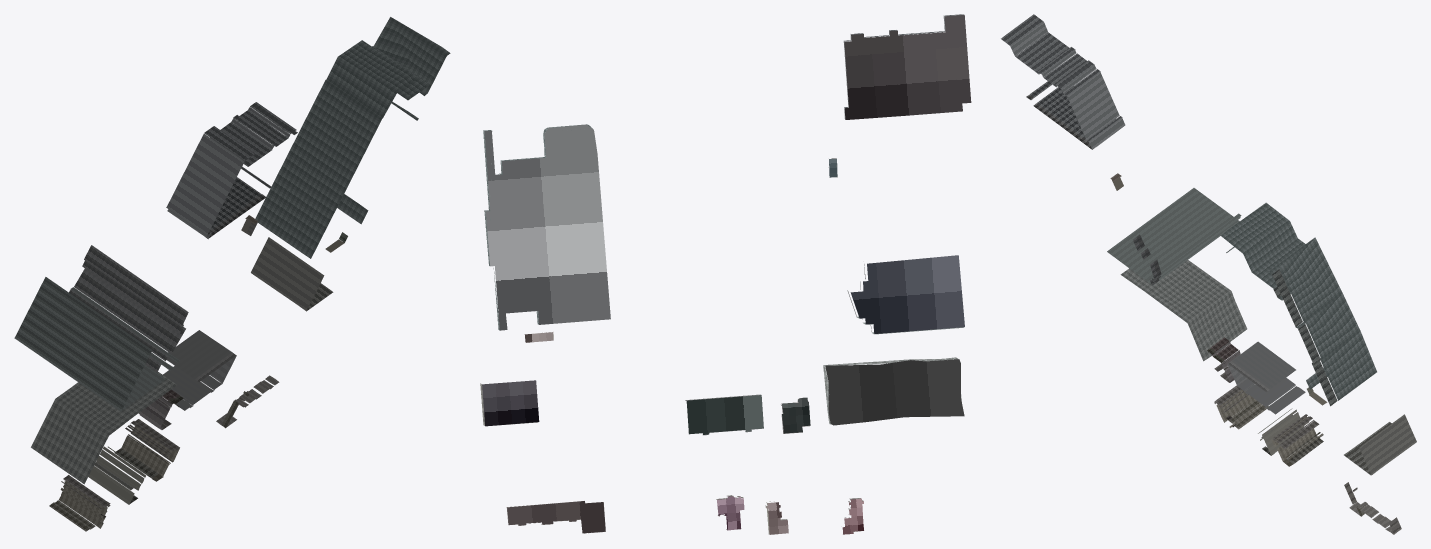
File: tile_LOD3_r2_c7.glb
3 views of the same model, side by side, from view 1: azimuth 30°, elevation 25°; view 2: azimuth 150°, elevation 25°; view 3: azimuth 270°, elevation 25° (orthographic). The views are drawn at different scales.
Size of the model in its own units: 327 by 315 by 289.
Materials: 59 (58 with a texture image).
